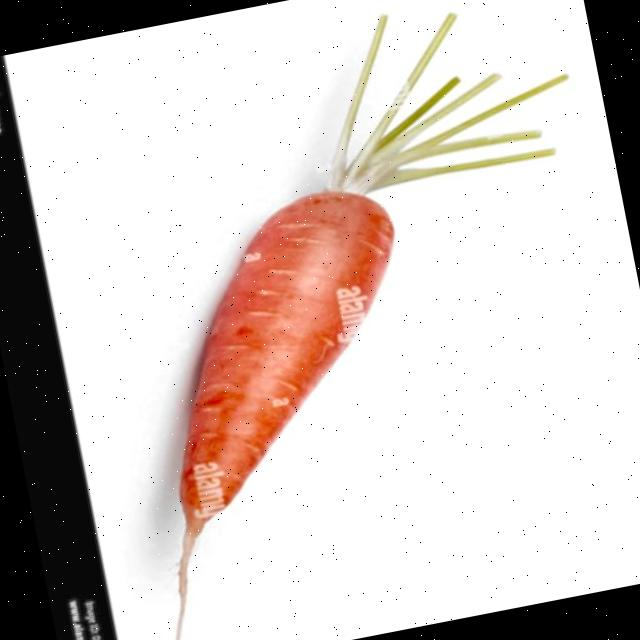carrot: (175, 14, 567, 640)
